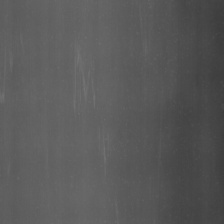silk_spot: (69, 49, 103, 116), (100, 131, 115, 172)
